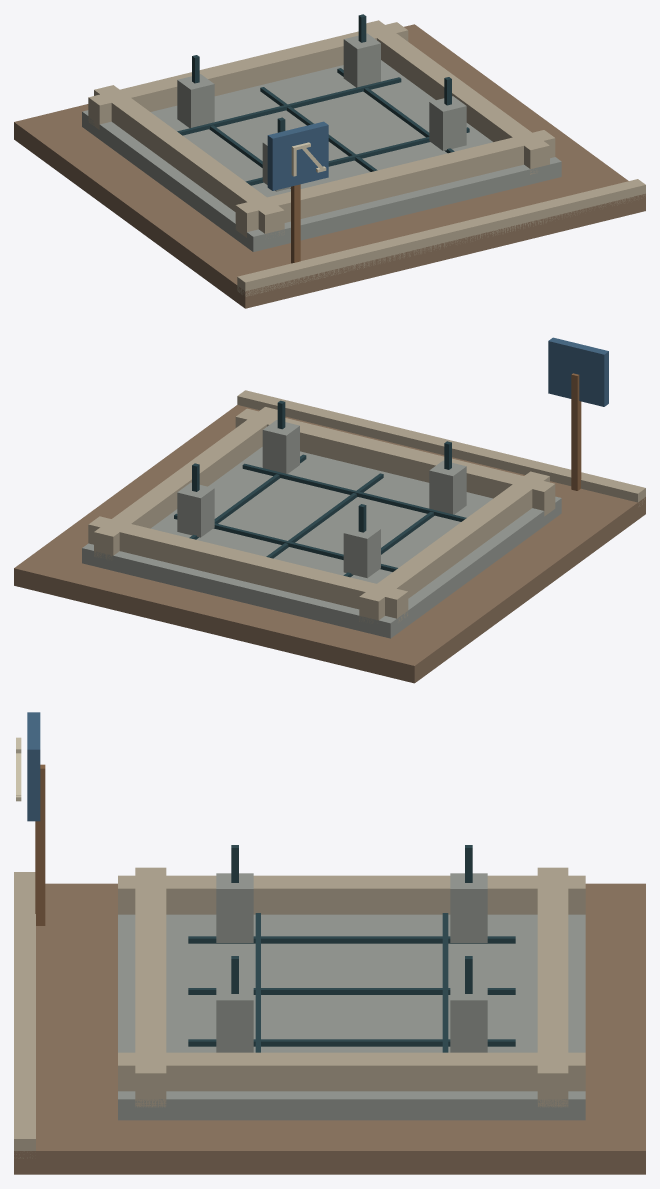
File: playground-seabreeze-foundation.glb
3 views of the same model, one above another, from view 1: azimuth 30°, elevation 25°; view 2: azimuth 150°, elevation 25°; view 3: azimuth 270°, elevation 25° (orthographic). The views are drawn at different scales.
Parts seen in each view (by area): view 1: playground; view 2: playground; view 3: playground.
Boxes of the visible parts, <box> form: playground: <box>14,14,645,308</box>; playground: <box>14,337,645,683</box>; playground: <box>14,712,645,1174</box>.
Bounding box in the file's own units: 2.88 × 1.09 × 2.88.
